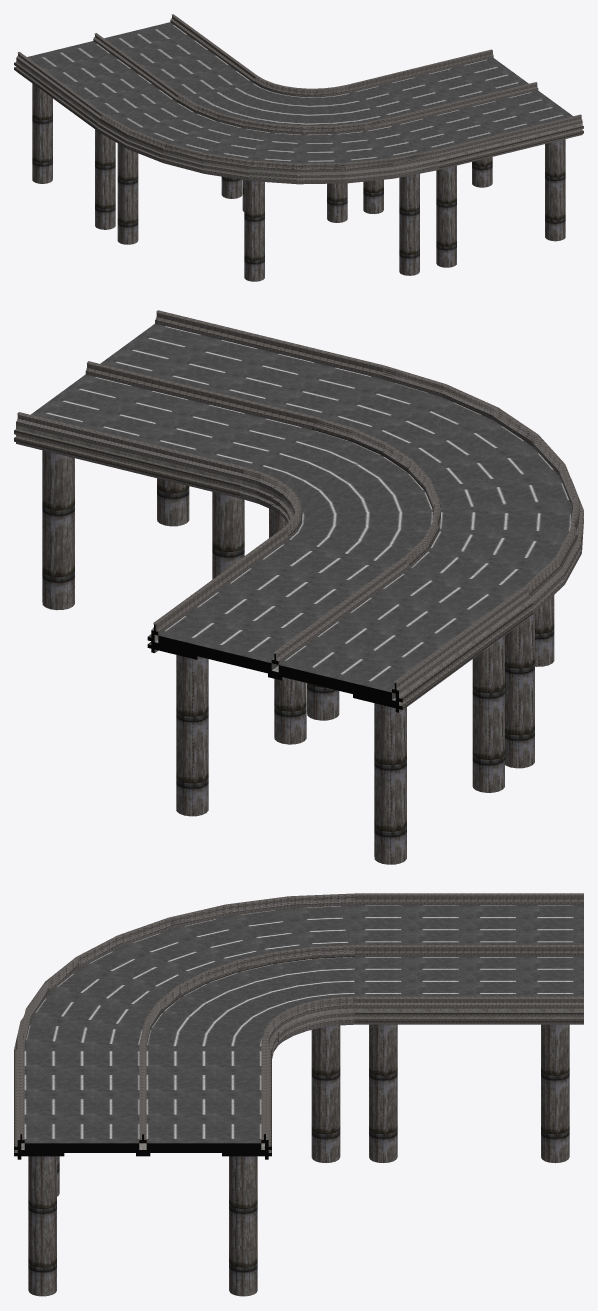
File: Highway90_2.fbx
3 views of the same model, one above another, from view 1: azimuth 30°, elevation 25°; view 2: azimuth 150°, elevation 25°; view 3: azimuth 270°, elevation 25° (orthographic). The views are drawn at different scales.
Parts seen in each view (by area): view 1: materialA150, materialD150, materialC150; view 2: materialD150, materialA150, materialB150, materialC150; view 3: materialD150, materialA150, materialB150, materialC150.
Boxes of the visible parts, box(x1,y1,x2,y2) form: materialA150: box(14, 14, 583, 281); materialD150: box(27, 22, 572, 163); materialC150: box(16, 60, 582, 179); materialD150: box(31, 323, 571, 699); materialA150: box(14, 310, 583, 864); materialB150: box(147, 624, 402, 712); materialC150: box(16, 425, 579, 705); materialD150: box(24, 905, 583, 1143); materialA150: box(14, 893, 583, 1296); materialB150: box(14, 1134, 271, 1159); materialC150: box(21, 1008, 583, 1149).
Size of the model in its own units: 128 by 41.6 by 127.
